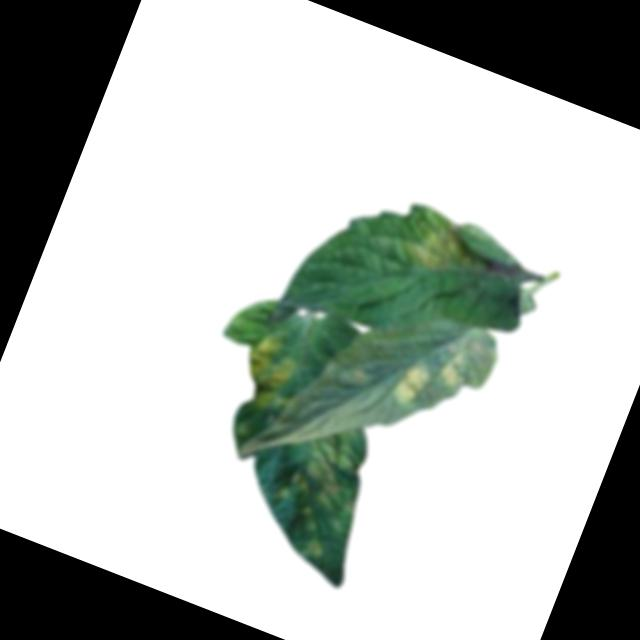Leaf_Mold: (230, 328, 309, 421), (402, 210, 489, 292), (292, 426, 368, 502), (386, 354, 438, 418), (435, 349, 477, 397)
